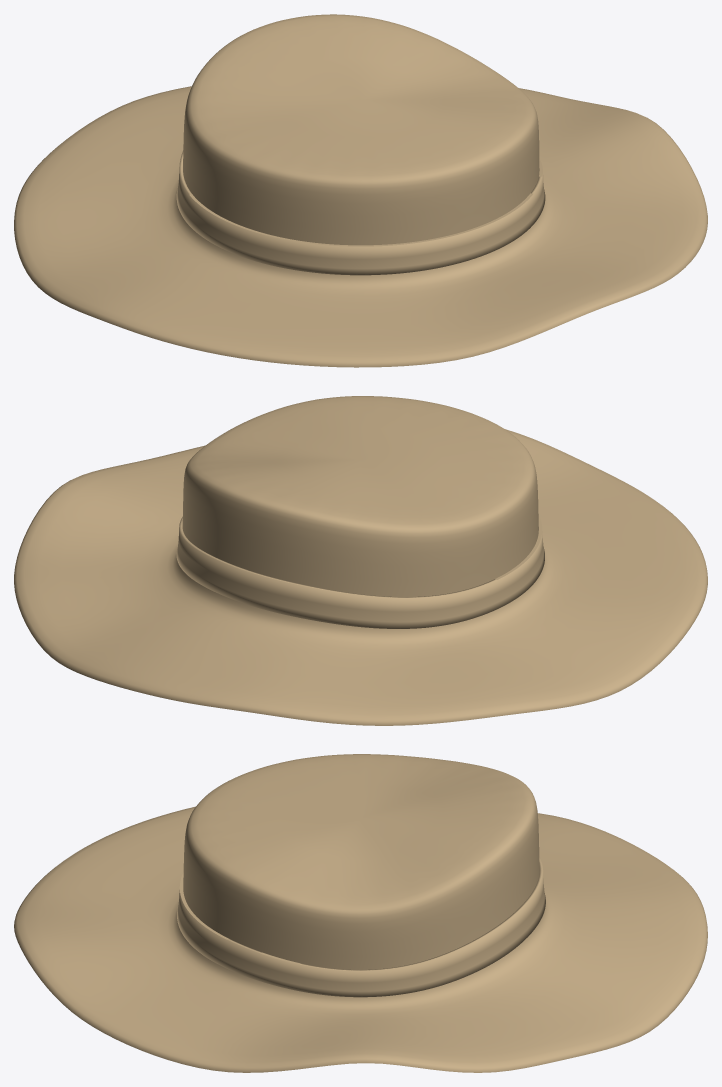
File: hat.obj
3 renders of one model, top to bottom at view 1: azimuth 30°, elevation 25°; view 2: azimuth 150°, elevation 25°; view 3: azimuth 270°, elevation 25°, orthographic.
Parts seen in each view (by area): view 1: Circle, Circle.001; view 2: Circle, Circle.001; view 3: Circle, Circle.001.
Part boxes in pixels (x1=…): Circle: x1=14, y1=14, x2=707, y2=367; Circle.001: x1=176, y1=150, x2=545, y2=275; Circle: x1=14, y1=396, x2=707, y2=725; Circle.001: x1=176, y1=515, x2=544, y2=628; Circle: x1=14, y1=754, x2=707, y2=1072; Circle.001: x1=177, y1=856, x2=545, y2=997.
Bounding box in the file's own units: 1.98 × 0.4792 × 1.98.
Materials: 1 (1 with a texture image).
